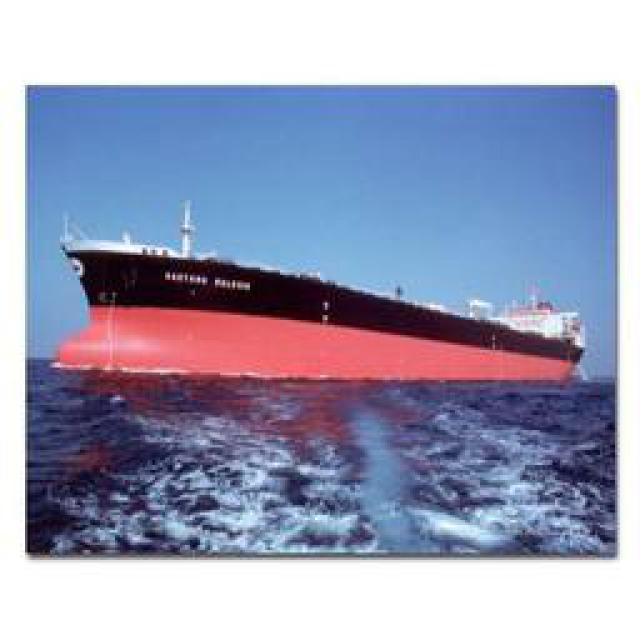Ship: (53, 191, 588, 391)
